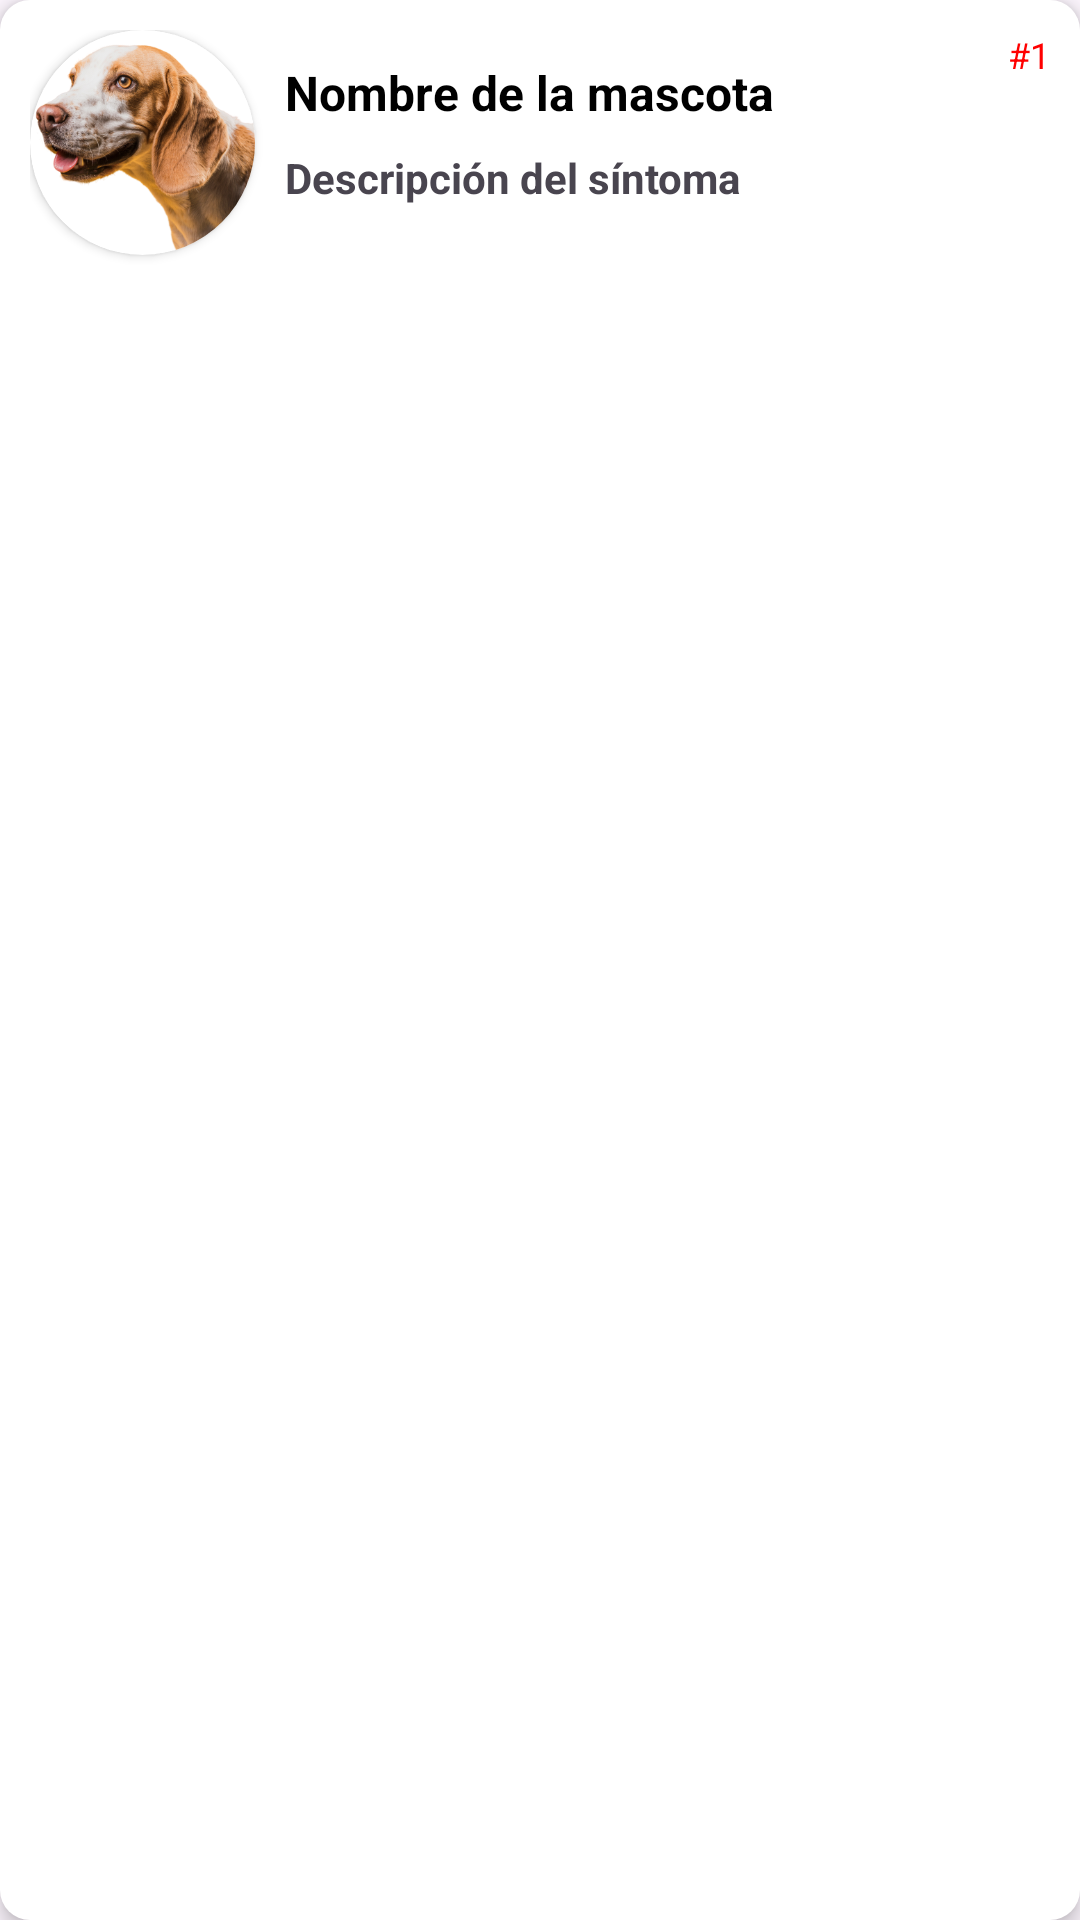

Where icons sit on this 1080x1920 app screen, as [x1=x1, y1=y1, x2=x2, y2=y2]:
dog: [x1=30, y1=30, x2=255, y2=255]
